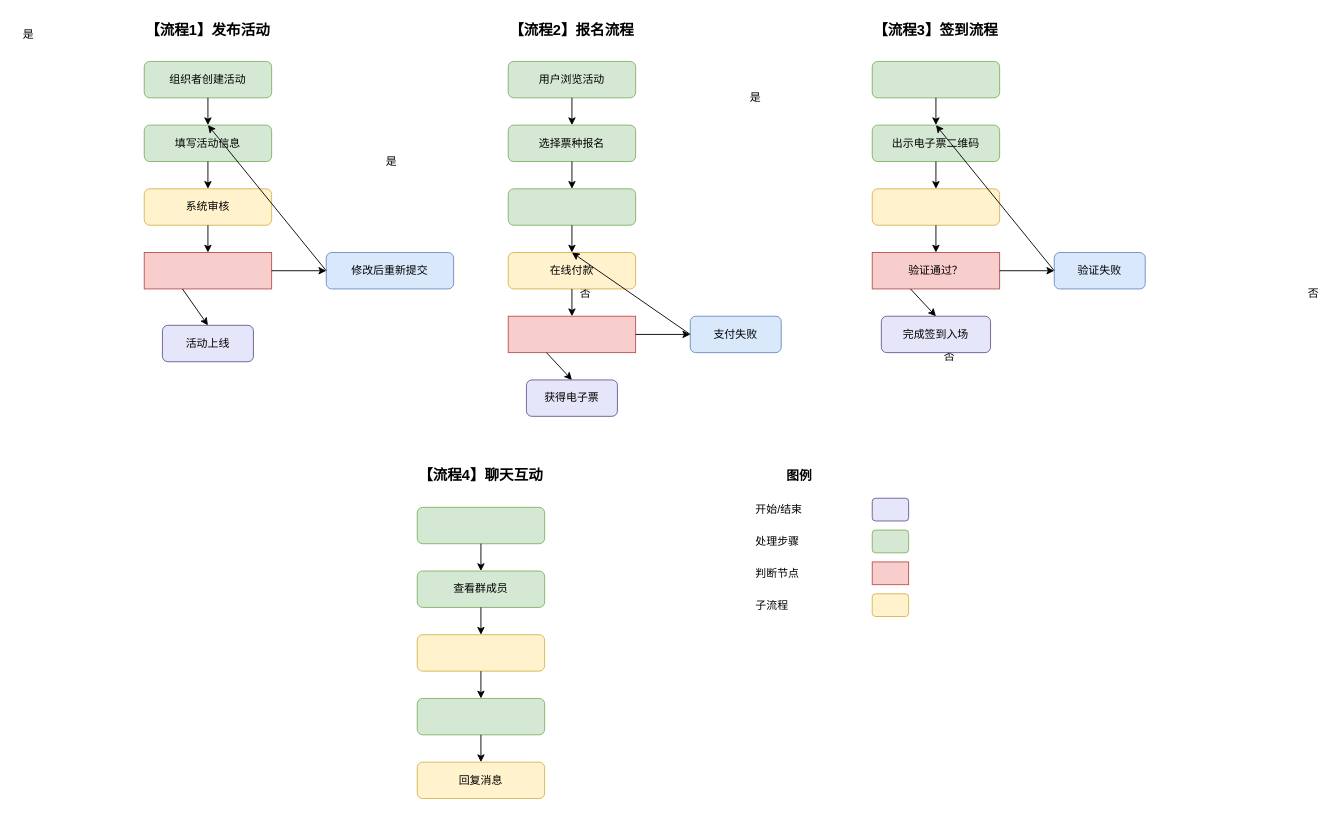
The diagram is 1343 pixels wide and 814 high, and some of its shapes have lost their labels. The shapes that lost their labels are listed below. From the top down, each one's box as (x1, y1, x2, y2) in pixels, then its label:
(871, 61, 1000, 98): 用户到达现场
(507, 188, 636, 225): 填写报名信息
(871, 188, 1000, 225): 工作人员扫码
(143, 252, 272, 289): 审核通过？
(507, 315, 636, 353): 支付成功？
(416, 506, 545, 544): 用户进入活动群
(416, 634, 545, 671): 发送消息
(416, 698, 545, 735): 其他用户接收
